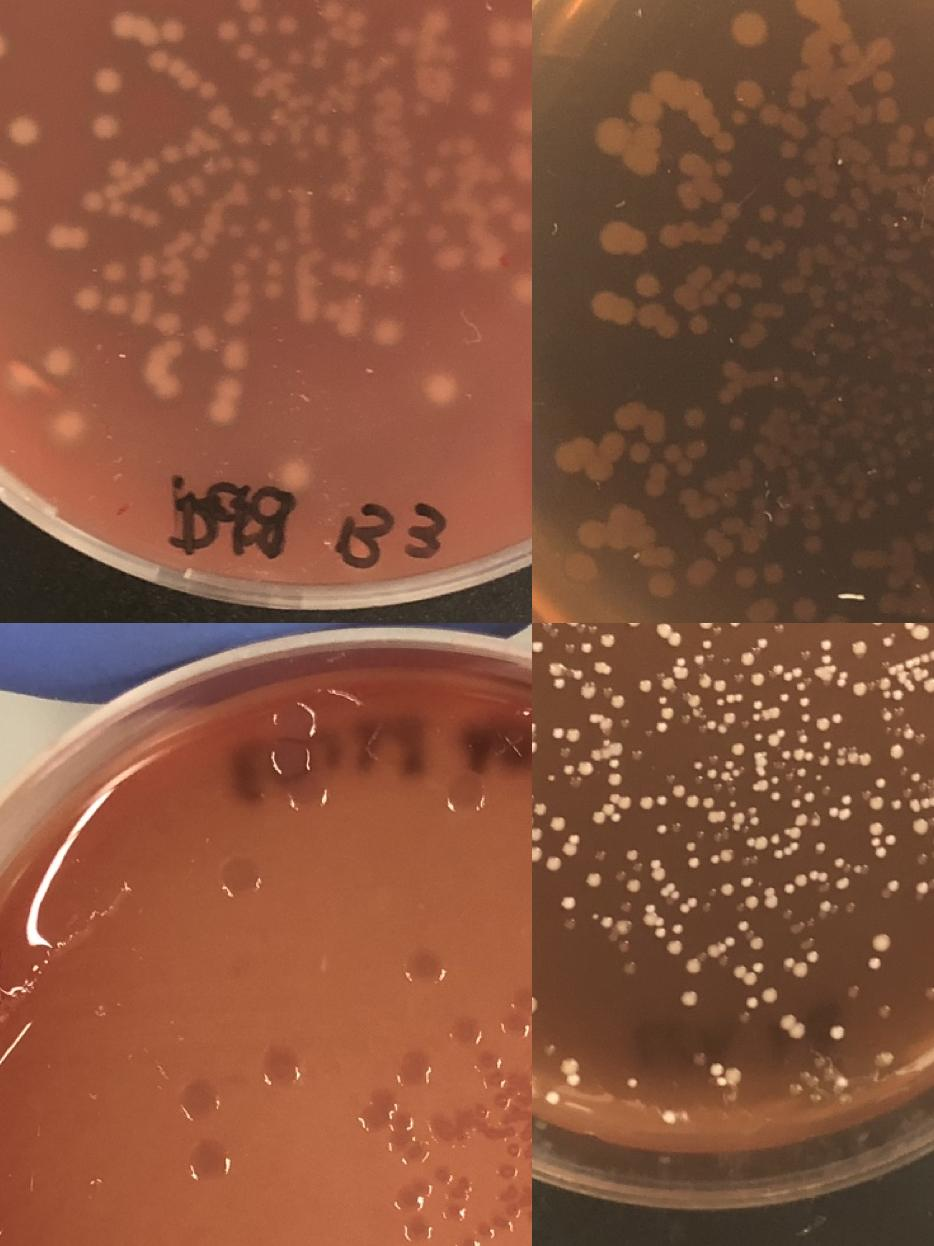assalmonicida: (596, 70, 736, 178), (589, 290, 682, 338), (796, 0, 862, 64), (555, 430, 625, 485), (614, 399, 670, 442), (734, 560, 786, 590), (602, 222, 649, 254), (782, 867, 831, 896), (670, 782, 717, 811), (868, 821, 901, 859), (732, 14, 766, 46), (577, 518, 609, 550), (564, 554, 596, 586), (746, 596, 780, 623), (658, 222, 686, 250), (632, 270, 660, 298), (681, 402, 709, 430), (828, 792, 854, 822), (708, 1062, 740, 1084), (779, 1012, 806, 1038), (562, 1058, 584, 1088), (869, 38, 895, 62), (869, 71, 895, 95), (736, 82, 762, 106), (875, 98, 901, 122), (679, 153, 705, 177), (684, 438, 710, 462), (627, 440, 653, 464), (651, 544, 677, 568), (694, 558, 720, 582), (649, 573, 675, 597), (792, 597, 818, 621), (657, 623, 683, 646), (758, 106, 784, 128), (638, 792, 669, 810), (733, 966, 758, 988), (720, 358, 742, 381), (761, 884, 780, 910), (786, 90, 808, 112), (727, 106, 749, 128), (895, 122, 917, 144), (777, 138, 799, 160), (720, 200, 742, 222), (692, 263, 714, 285), (800, 511, 822, 533), (803, 536, 825, 558), (910, 146, 930, 170), (712, 159, 733, 181), (757, 203, 779, 224), (532, 803, 544, 841), (925, 114, 934, 159), (911, 626, 929, 644), (577, 760, 595, 778), (549, 815, 567, 833), (912, 818, 930, 836), (545, 856, 563, 874), (685, 956, 703, 974), (739, 650, 755, 668), (697, 672, 713, 690), (686, 692, 702, 710), (889, 742, 905, 760), (831, 852, 847, 870), (884, 874, 900, 892), (874, 933, 890, 951), (682, 988, 698, 1006), (830, 1024, 846, 1042), (547, 1088, 563, 1106), (548, 660, 564, 677), (578, 683, 594, 700), (889, 797, 905, 814), (591, 809, 607, 826), (794, 812, 810, 829), (834, 876, 850, 893), (615, 920, 631, 937), (748, 934, 764, 951), (667, 938, 683, 955), (819, 636, 834, 654), (822, 613, 848, 623), (550, 726, 566, 742), (857, 752, 873, 768), (625, 846, 641, 862), (720, 848, 736, 864), (650, 866, 666, 882), (626, 878, 642, 894), (719, 882, 735, 898), (744, 894, 760, 910), (806, 950, 822, 966), (791, 962, 807, 978), (624, 1074, 640, 1090), (610, 692, 624, 710), (660, 704, 674, 722), (656, 820, 670, 838), (600, 632, 616, 647), (854, 640, 869, 656), (673, 664, 689, 679), (751, 672, 766, 688), (815, 717, 831, 732), (766, 733, 782, 748), (616, 796, 632, 811), (866, 797, 882, 812), (915, 880, 930, 896), (597, 916, 613, 931), (866, 955, 882, 970), (744, 995, 760, 1010), (662, 1108, 677, 1124), (562, 841, 576, 858), (728, 742, 743, 757), (608, 772, 622, 788), (874, 774, 888, 790), (754, 836, 768, 852), (762, 988, 778, 1002), (878, 1052, 894, 1066), (852, 682, 866, 697), (608, 742, 622, 757), (756, 778, 770, 793), (586, 874, 600, 889), (561, 896, 576, 910), (532, 637, 544, 654), (922, 677, 934, 694), (532, 845, 542, 863), (532, 737, 539, 754), (698, 623, 714, 630), (532, 718, 539, 733), (532, 996, 537, 1014), (870, 623, 885, 626)
pddamselae: (82, 155, 165, 230), (148, 49, 220, 101), (282, 88, 334, 130), (284, 34, 332, 74), (208, 376, 245, 426), (162, 172, 208, 211), (140, 141, 184, 178), (233, 38, 274, 74), (487, 17, 532, 48), (235, 0, 272, 33), (232, 124, 280, 148), (175, 230, 211, 262), (91, 66, 124, 98), (432, 242, 465, 274), (262, 258, 286, 302), (485, 52, 517, 84), (465, 88, 497, 120), (151, 306, 183, 338), (0, 165, 24, 202), (509, 271, 532, 307), (91, 114, 120, 142), (426, 375, 454, 404), (10, 118, 38, 146), (101, 256, 129, 284), (74, 286, 102, 314), (374, 319, 402, 347), (221, 340, 249, 368), (282, 461, 310, 489), (505, 206, 532, 235), (41, 348, 70, 375), (400, 194, 426, 221), (512, 105, 532, 137), (276, 12, 300, 36), (185, 121, 209, 145), (236, 152, 260, 176), (161, 20, 186, 43), (264, 179, 286, 204), (216, 19, 238, 42), (294, 141, 316, 163), (230, 259, 252, 281), (164, 276, 186, 298), (434, 136, 455, 158), (341, 219, 362, 241), (344, 30, 364, 50), (343, 56, 363, 76), (0, 206, 14, 234), (412, 98, 431, 118), (254, 215, 272, 232), (227, 223, 245, 238), (274, 238, 292, 253), (246, 244, 264, 258)
tmaritimum: (271, 702, 327, 816), (394, 1180, 433, 1245), (389, 1110, 428, 1164), (499, 981, 532, 1041), (220, 860, 260, 900), (402, 948, 442, 988), (181, 1082, 221, 1122), (190, 1142, 230, 1182), (446, 777, 486, 816), (262, 1048, 300, 1088), (446, 1014, 482, 1052), (360, 1092, 394, 1132), (398, 1054, 431, 1090), (476, 1052, 506, 1090), (452, 1176, 476, 1202), (496, 1184, 520, 1206), (500, 1206, 520, 1232), (492, 1092, 510, 1110), (473, 1104, 491, 1120), (505, 1142, 522, 1158), (499, 1165, 516, 1180), (436, 1168, 454, 1182), (447, 1206, 465, 1220), (479, 1224, 496, 1238), (518, 1127, 532, 1142), (462, 1240, 480, 1246), (527, 1139, 532, 1154)
